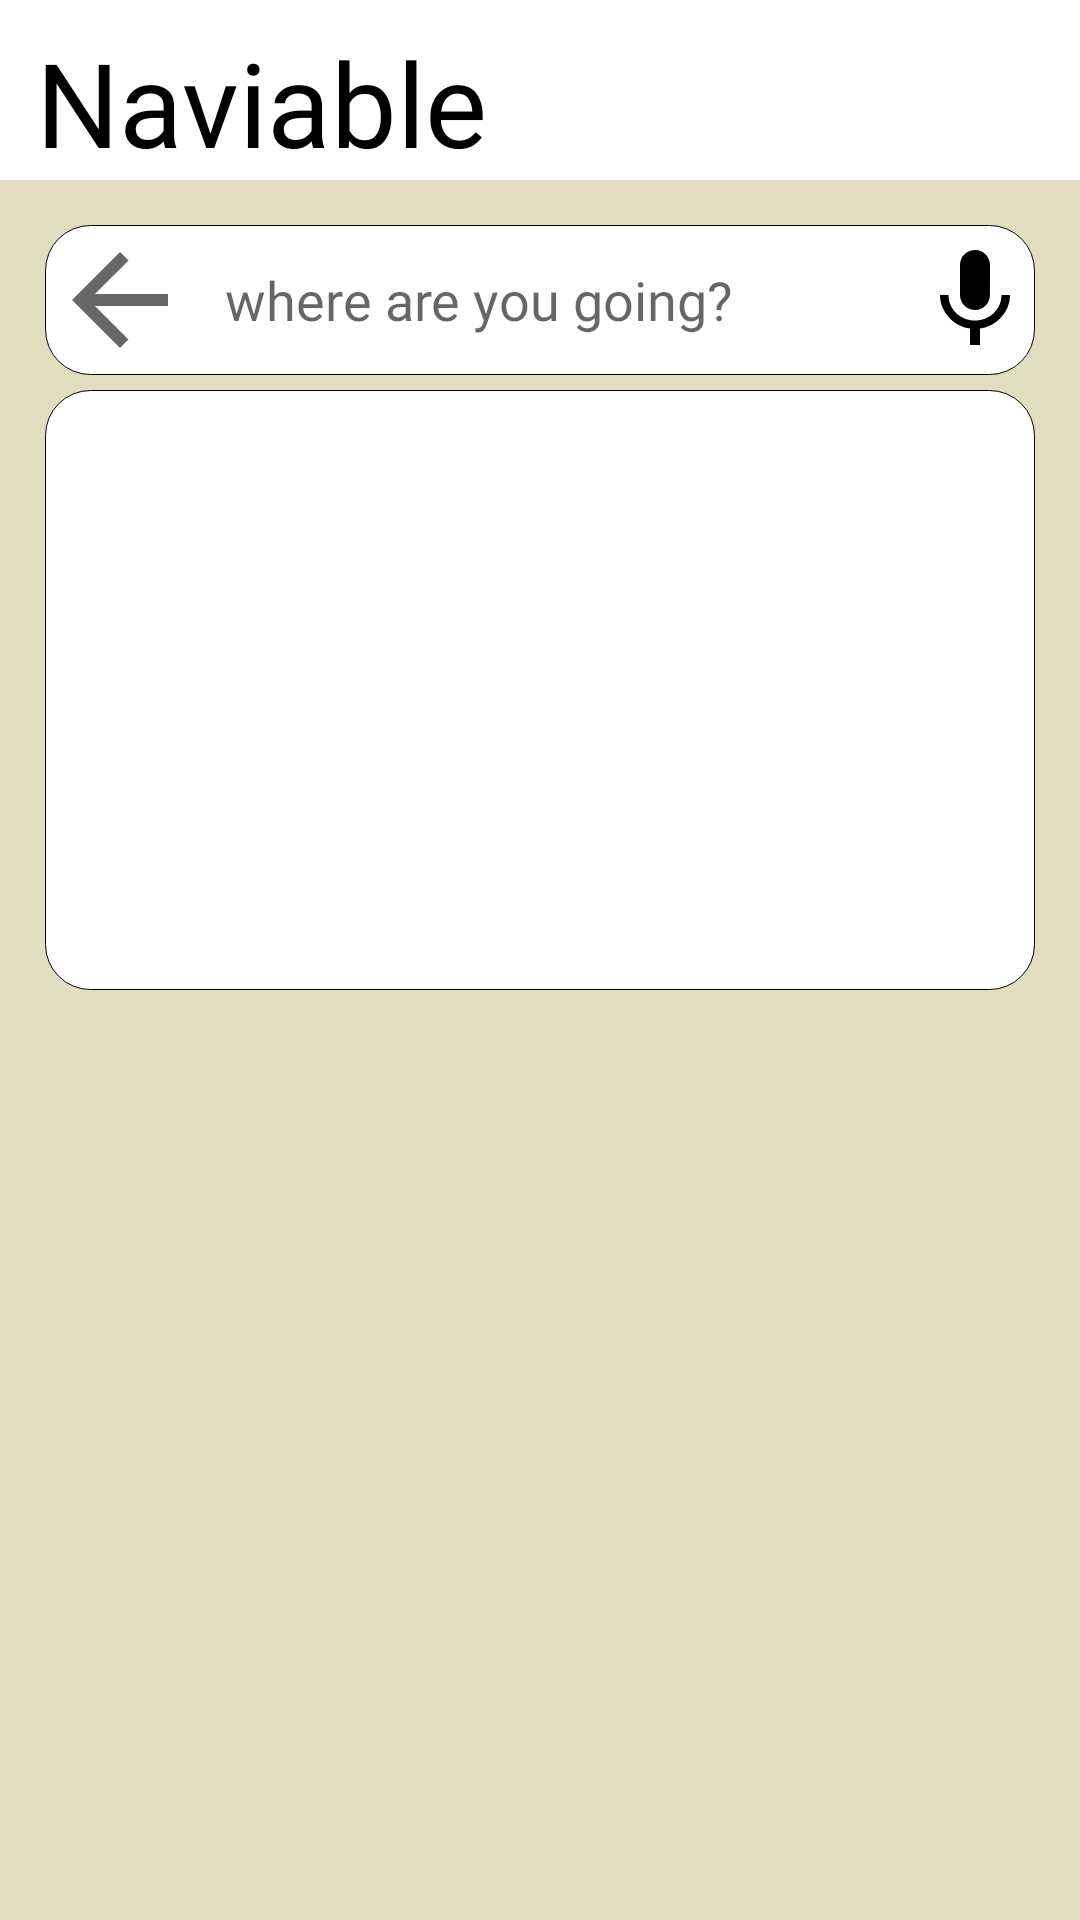

Screen size 1080*1920. Icon name, then its center in pixels as (x,y):
arrow back: (120,300)
mic: (975,297)
